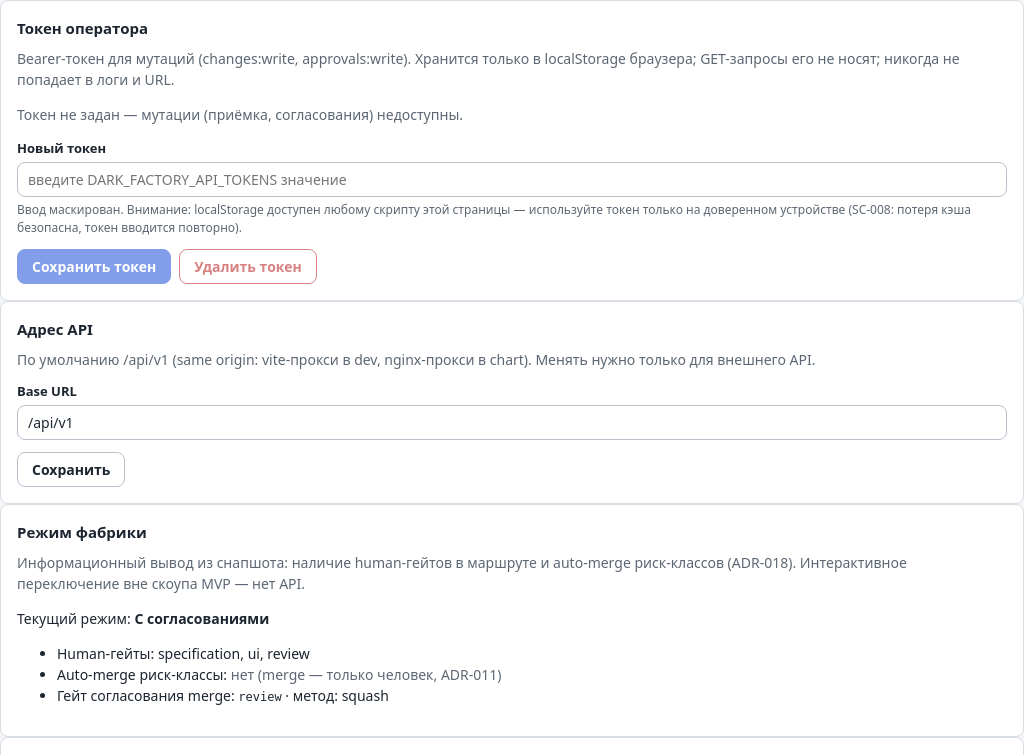
SettingsPage › saves a token into localStorage via a masked input
This screenshot has width=1024, height=755.
Type "synthetic-token-value" into the password field labelled "Новый токен" at (512, 180), box [17, 162, 1007, 197]
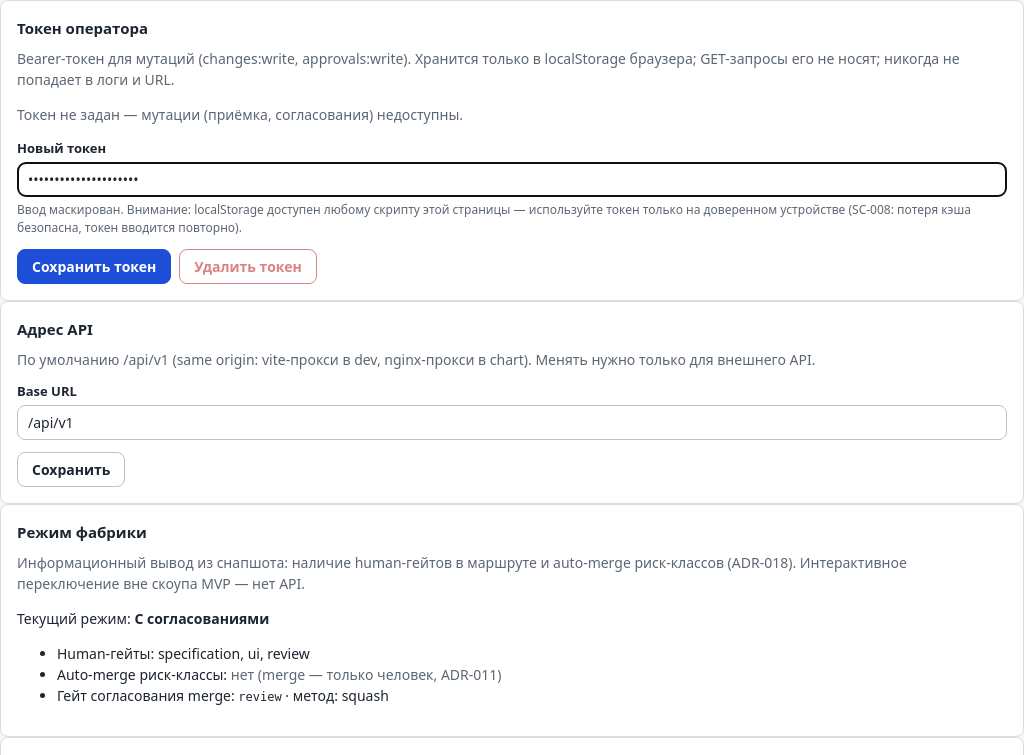
Click the button "Сохранить токен" at (94, 266), box [17, 249, 171, 284]
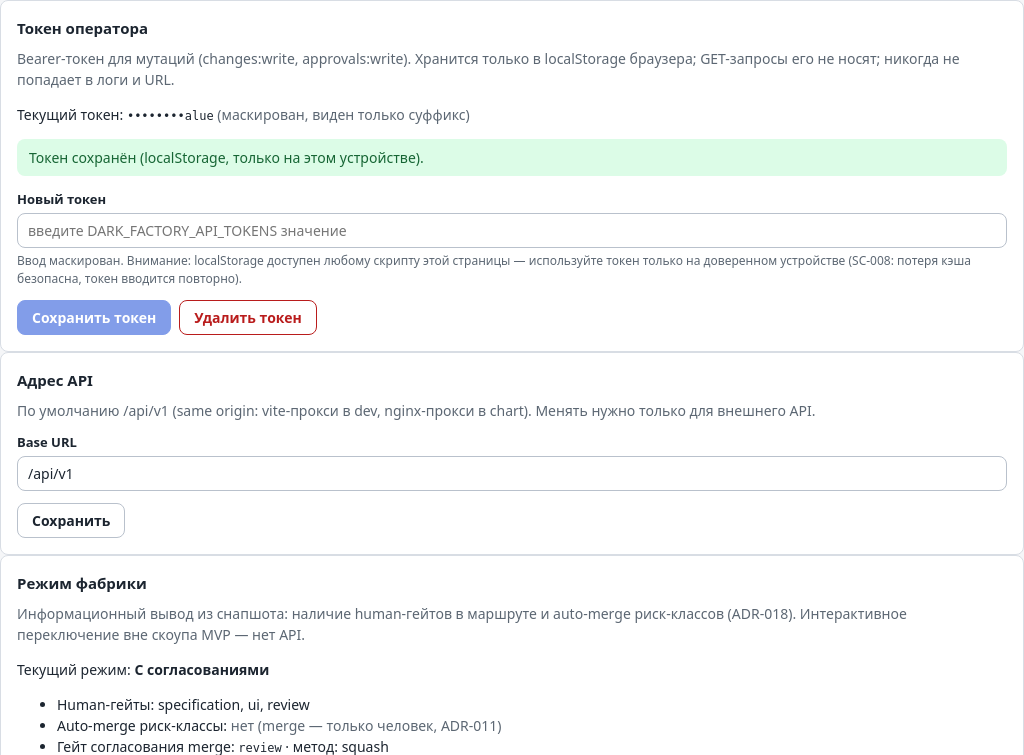
Expected: the password field labelled "Новый токен" is empty, [17, 213, 1007, 248]
Expected: the element with test id "token-masked" shows "••••••••alue", [127, 108, 214, 122]
